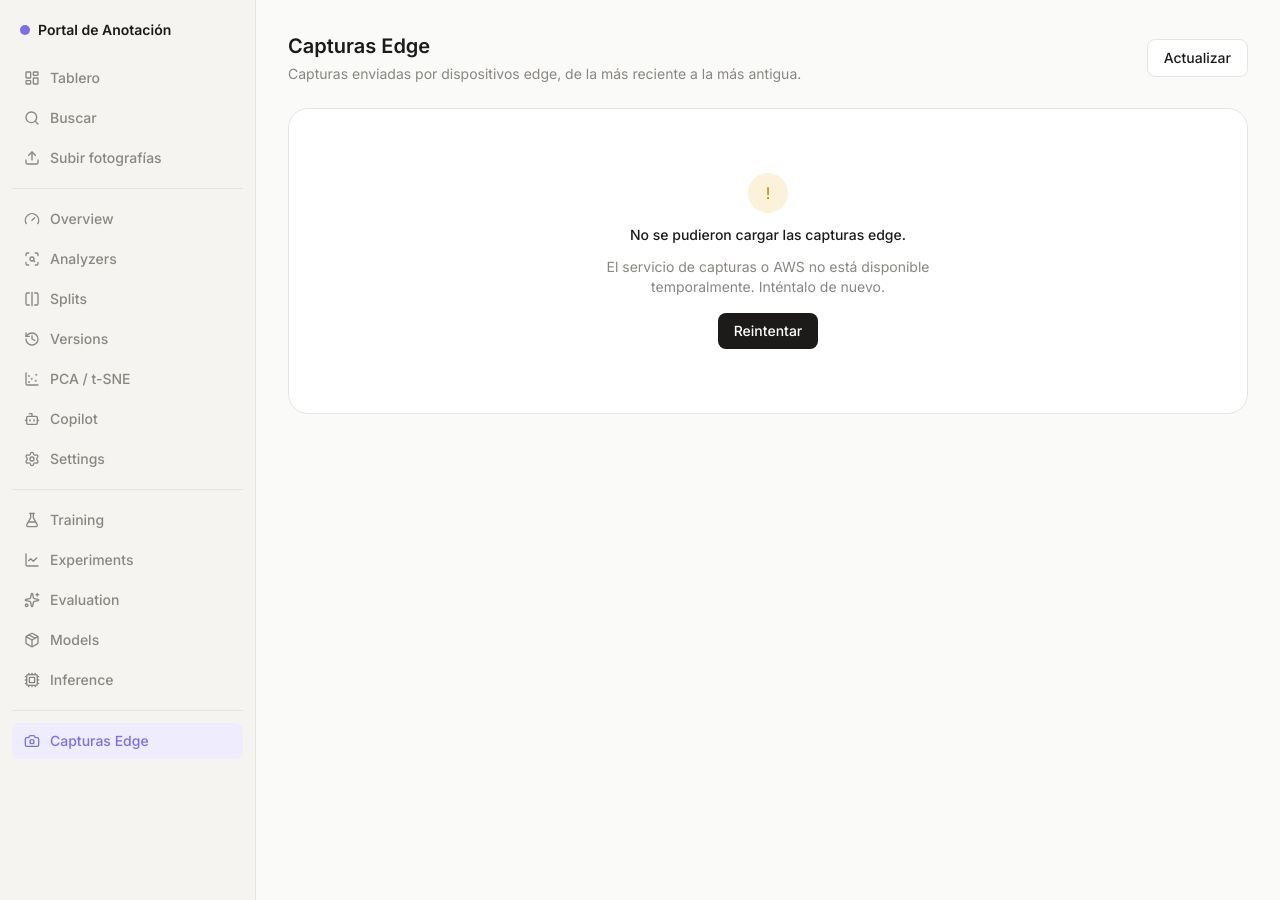
Test: P4-08 Capturas Edge › muestra error y permite reintentar una respuesta fallida
Expected: the text "No se pudieron cargar las capturas edge." is shown, [630,225,906,245]
Expected: the text "El servicio de capturas o AWS no está disponible temporalmente. Inténtalo de nuevo." is shown, [606,258,930,295]
Step 1. Click the button "Reintentar" → (768, 331), box [718,313,818,349]
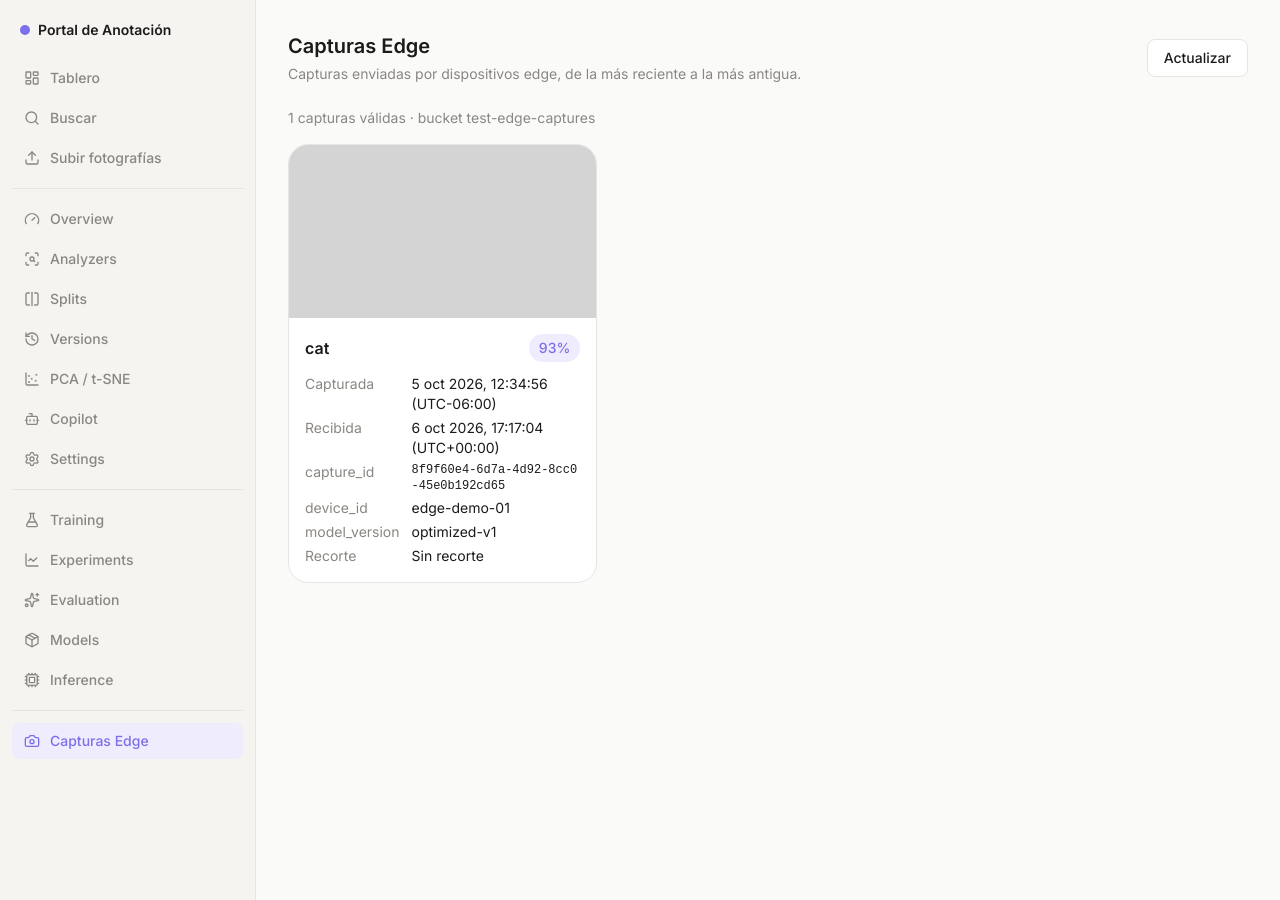
Expected: the text "8f9f60e4-6d7a-4d92-8cc0-45e0b192cd65" is shown, [412,462,580,494]
